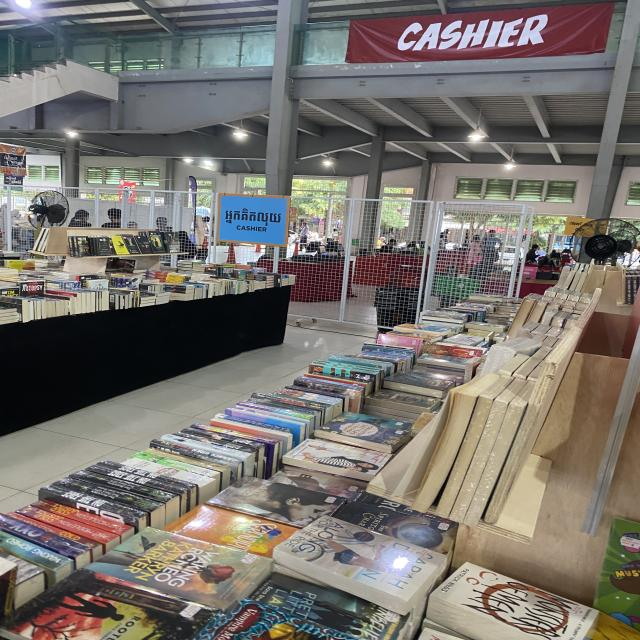Yolov11_80vkh: (222, 207, 283, 227)
